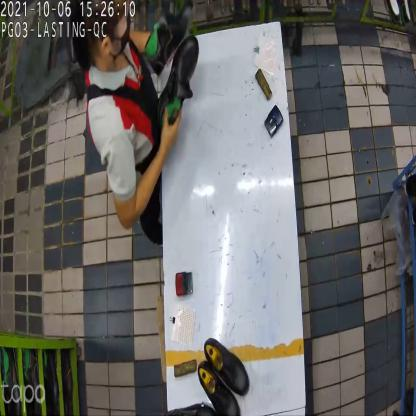shoes: (151, 0, 194, 131), (196, 342, 253, 415)
stamp: (268, 103, 284, 141), (177, 268, 195, 298)
